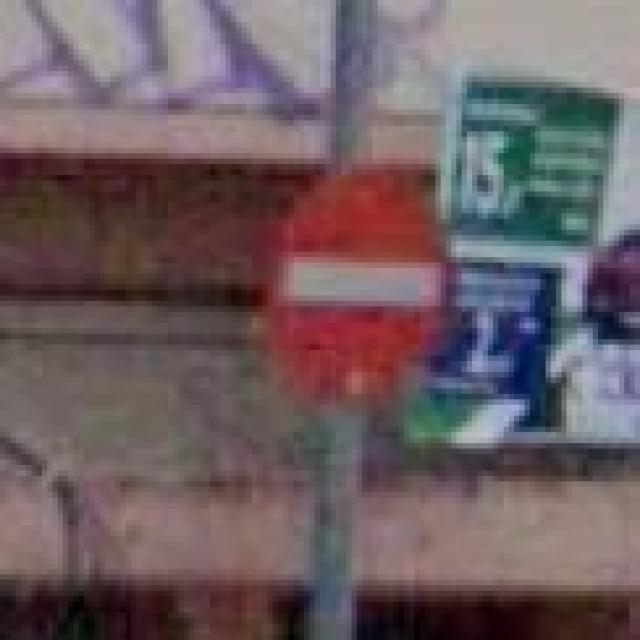traffic sign: (278, 181, 451, 410)
